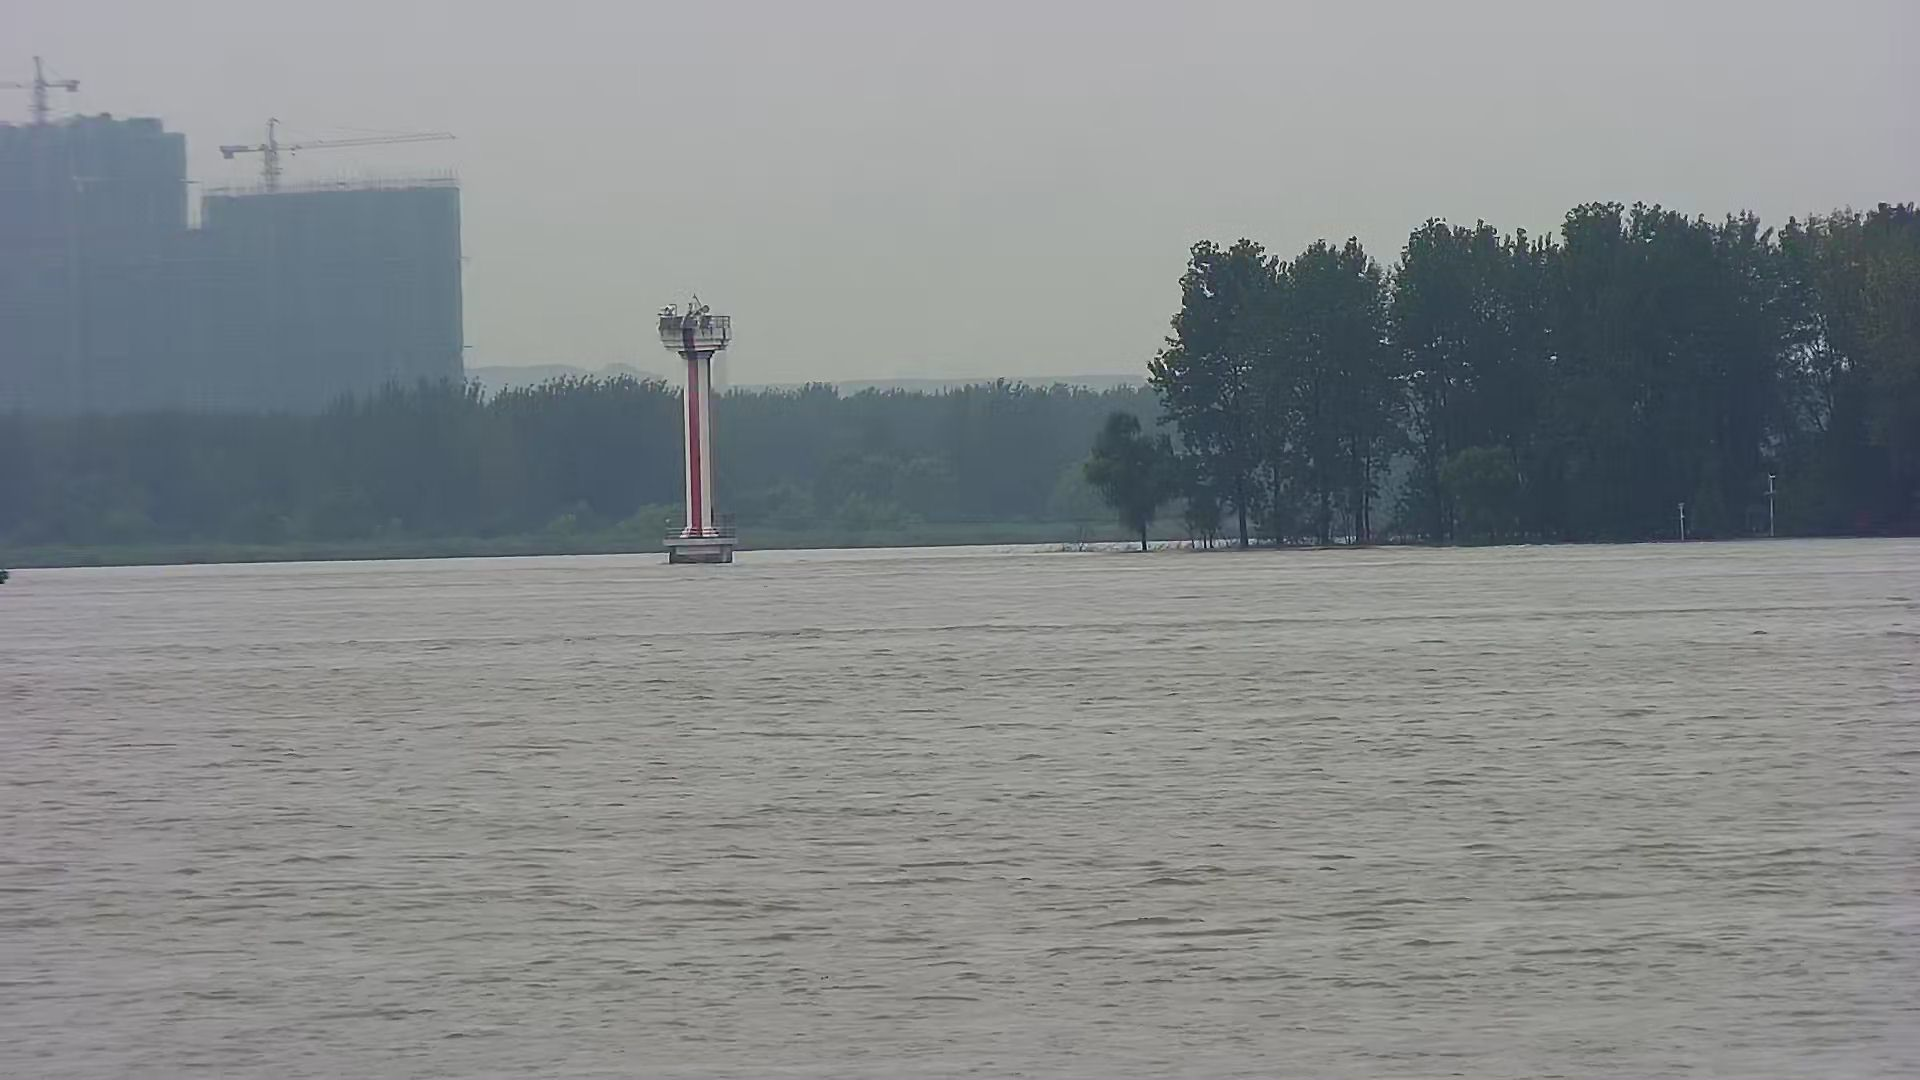platform: (650, 291, 748, 568)
